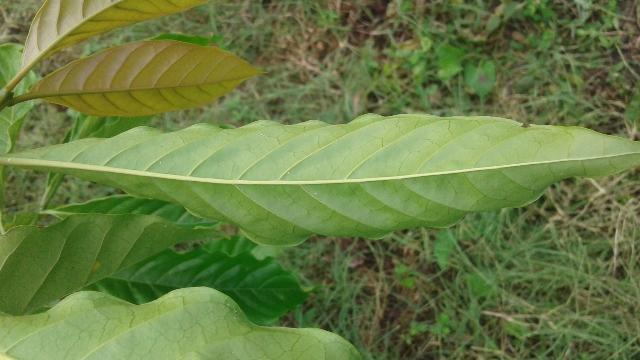healthy: (0, 113, 638, 246)
